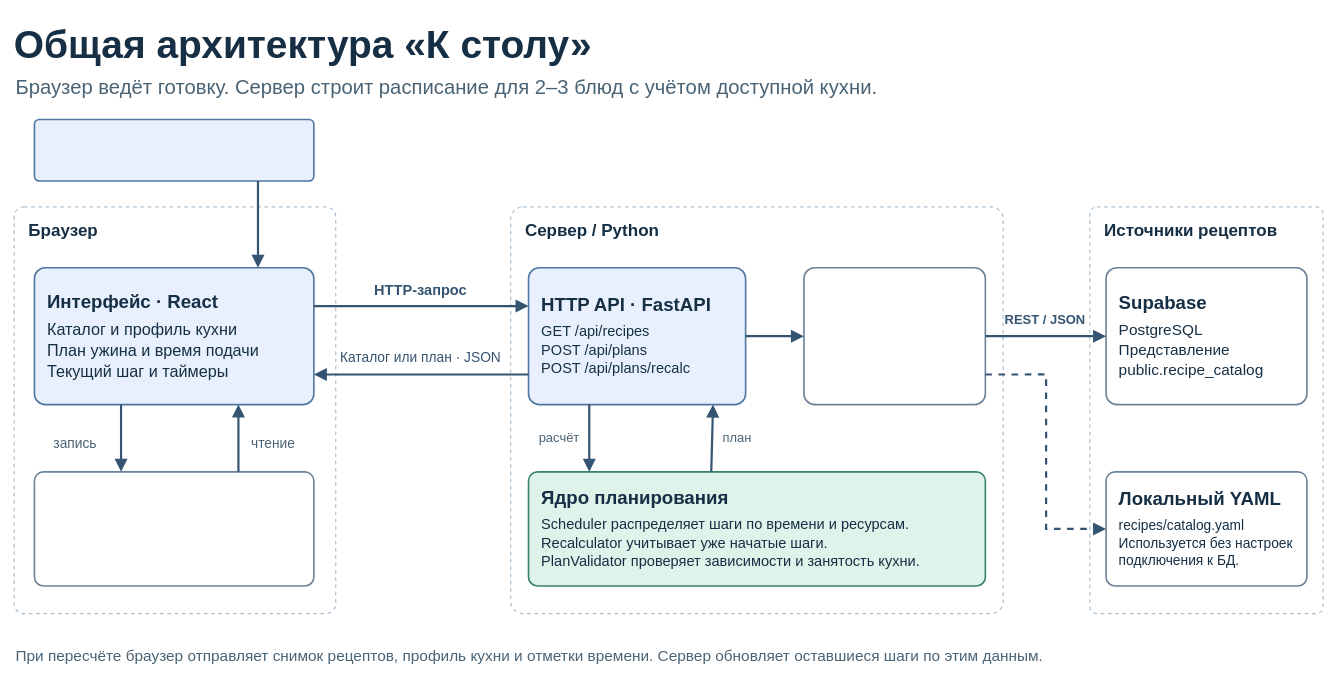
Some shapes in this 1338 by 689 pixel diagram are drawn without their labels. The centre of each missing label's shape, as x and y in pixels:
"localStorage Профиль кухни, свои блюда, план и прогресс текущего ужина." belongs at point 173,528.
"Адаптер каталога Выбирает источник по настройкам сервера и проверяет рецепты." belongs at point 894,335.
"Домашний кулинар Выбирает блюда и отмечает шаги." belongs at point 173,149.
